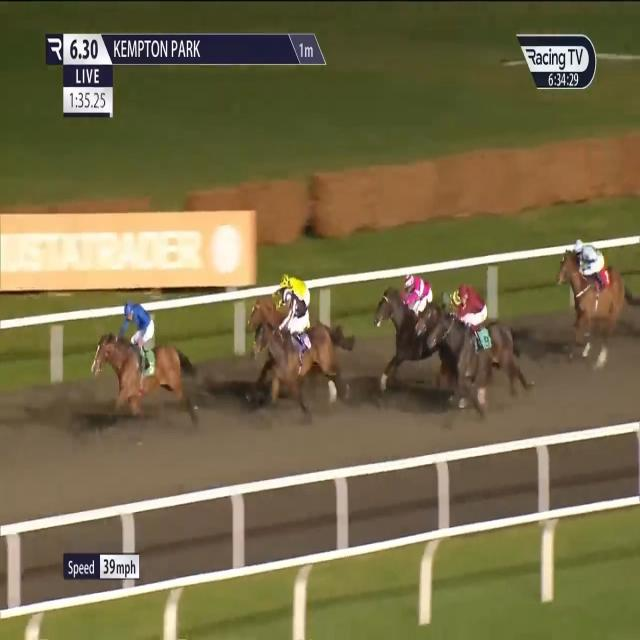horses-racing: (427, 280, 523, 405), (90, 304, 184, 429), (254, 286, 346, 404), (556, 237, 640, 360), (249, 270, 344, 356), (373, 278, 450, 382), (418, 291, 482, 345)
